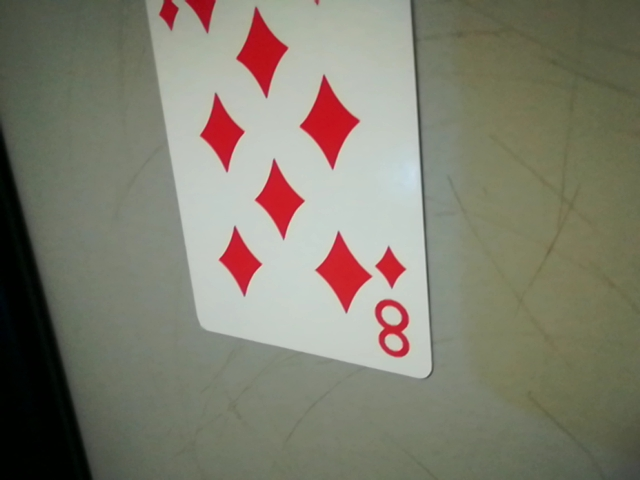fk 8: (363, 238, 425, 372)
